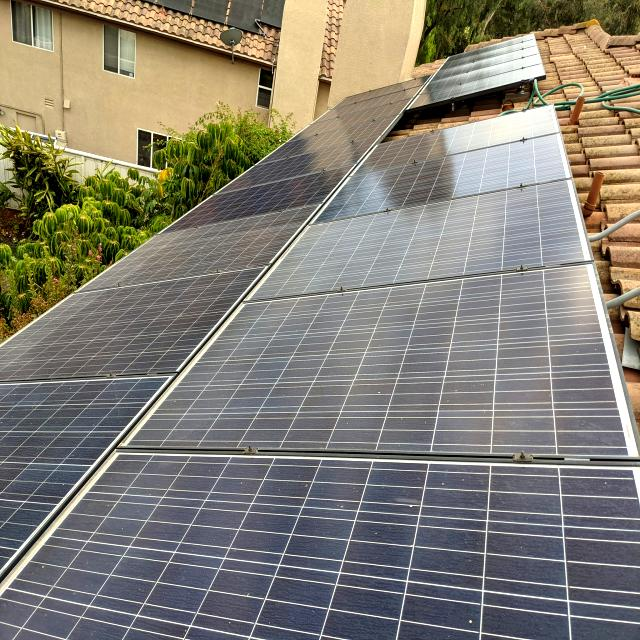dust: (402, 492, 627, 640), (201, 494, 377, 640), (497, 269, 597, 446), (369, 277, 474, 430), (87, 503, 184, 640), (254, 296, 338, 434), (2, 367, 82, 451)
